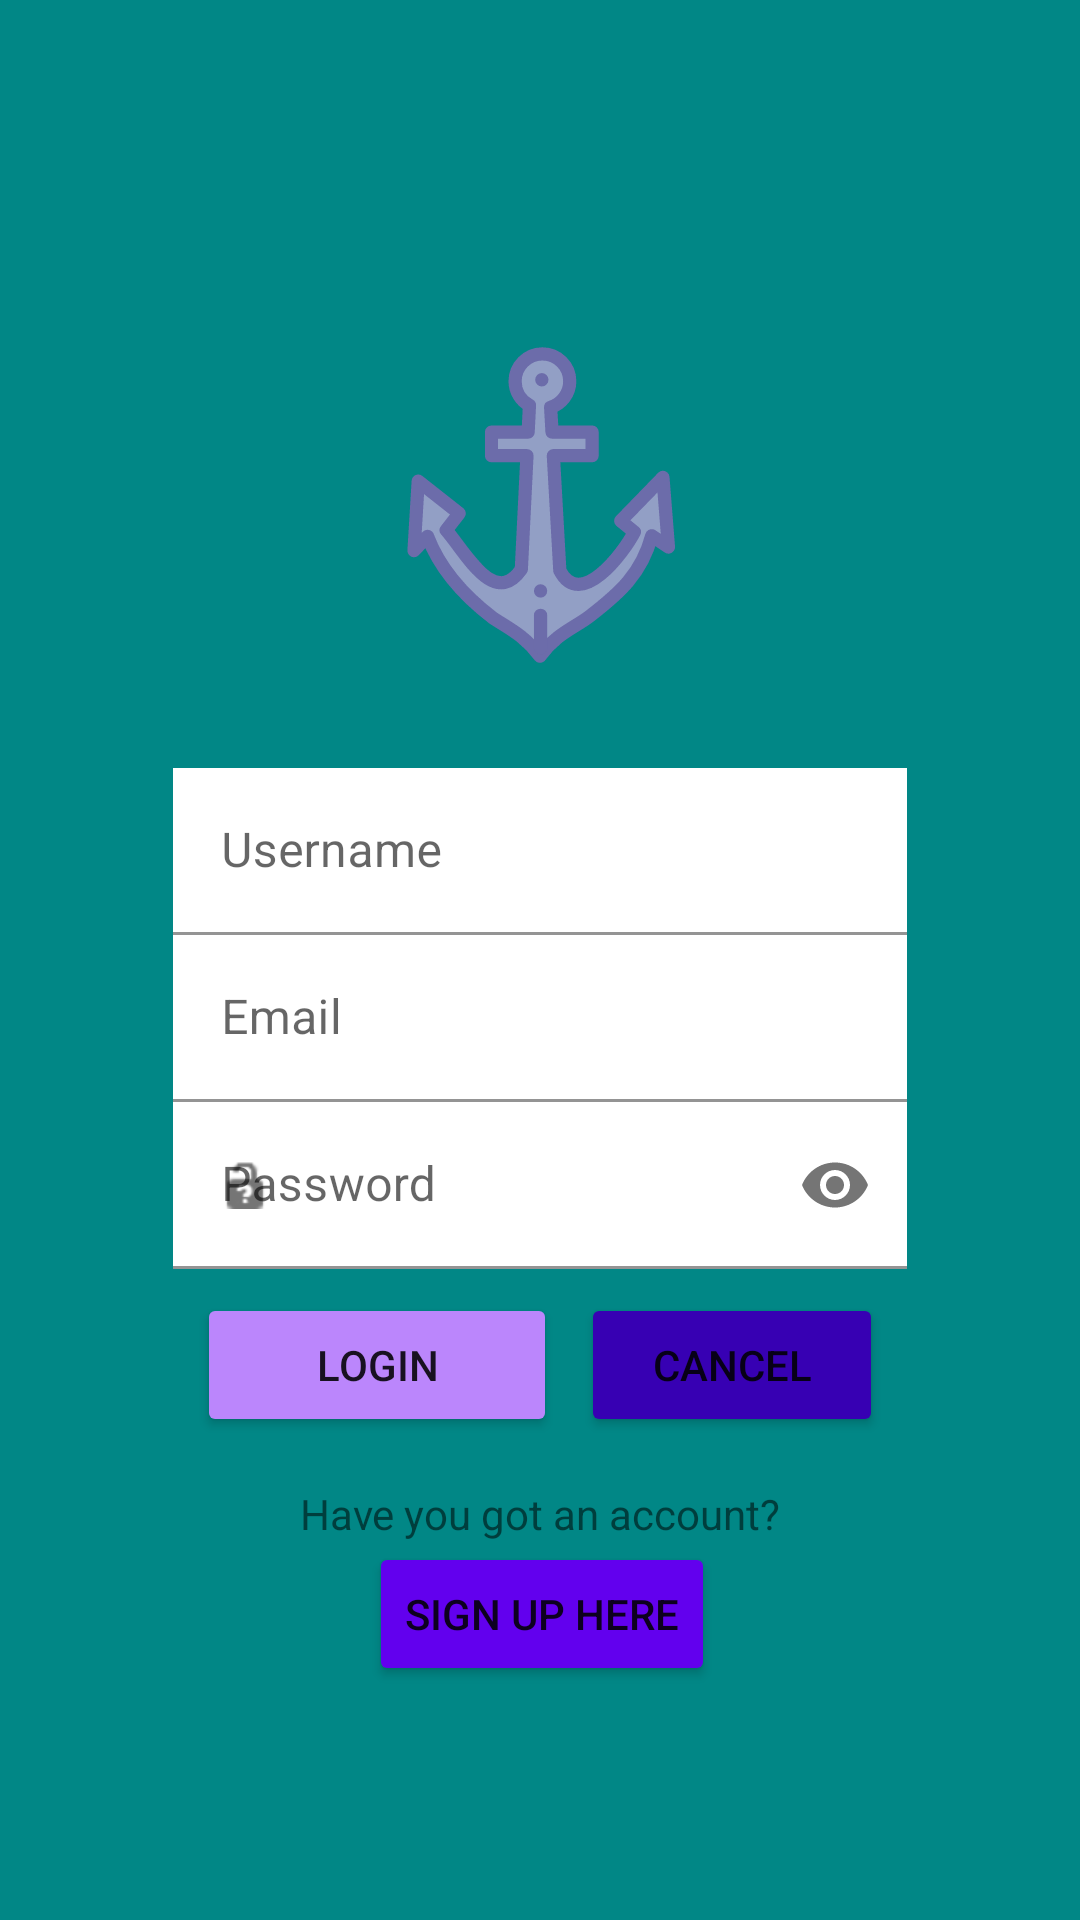

Screen size 1080w x 1920h. Icon name, then its center in pixels as (x=x, y=y):
ancla: (x=541, y=505)
